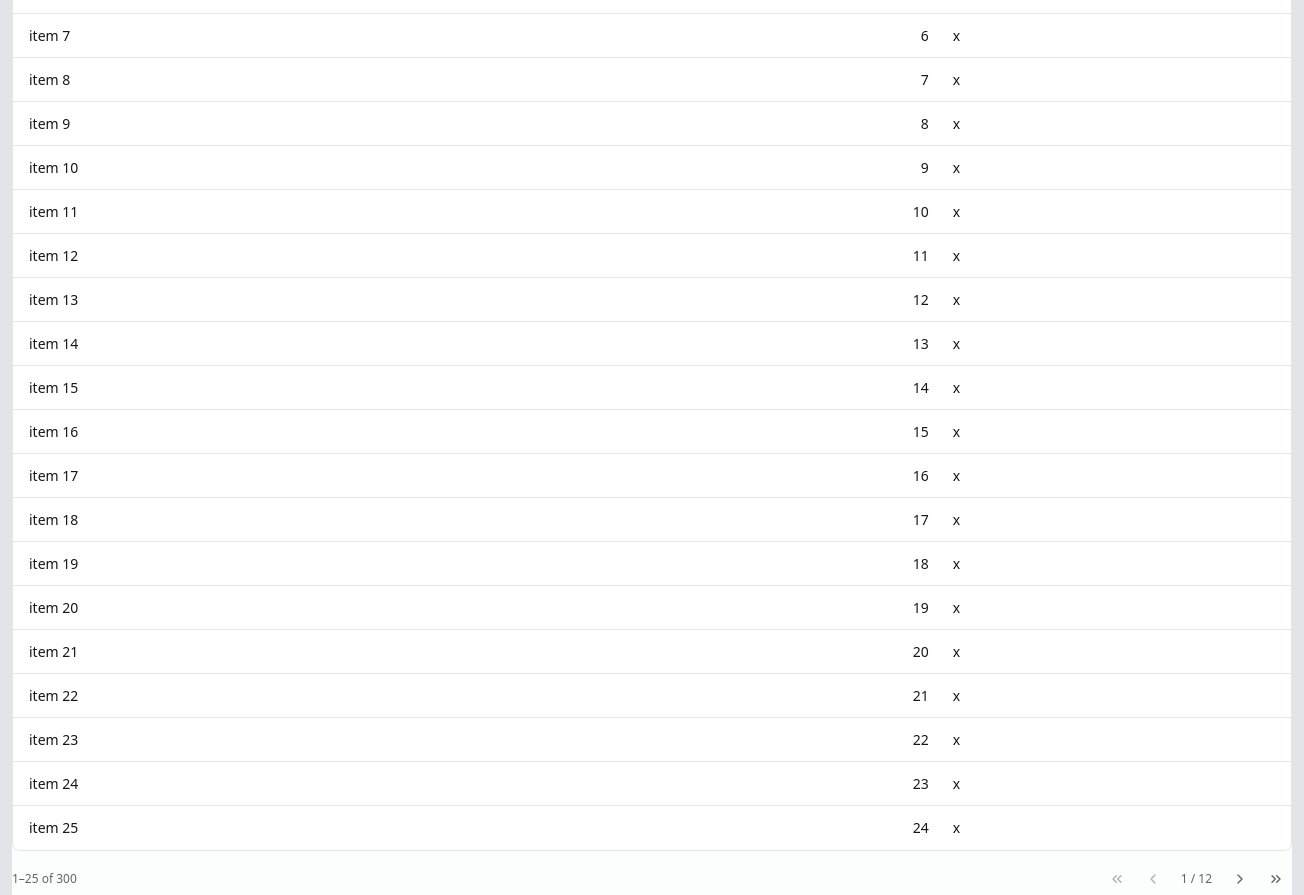
Scenario: DataTable › paginates large datasets
(page scrolled)
Expected: the text "1–25 of 300" is shown, [12,870,77,886]
Click the button named "Next page" at (1240, 878), box [1224,862,1256,894]
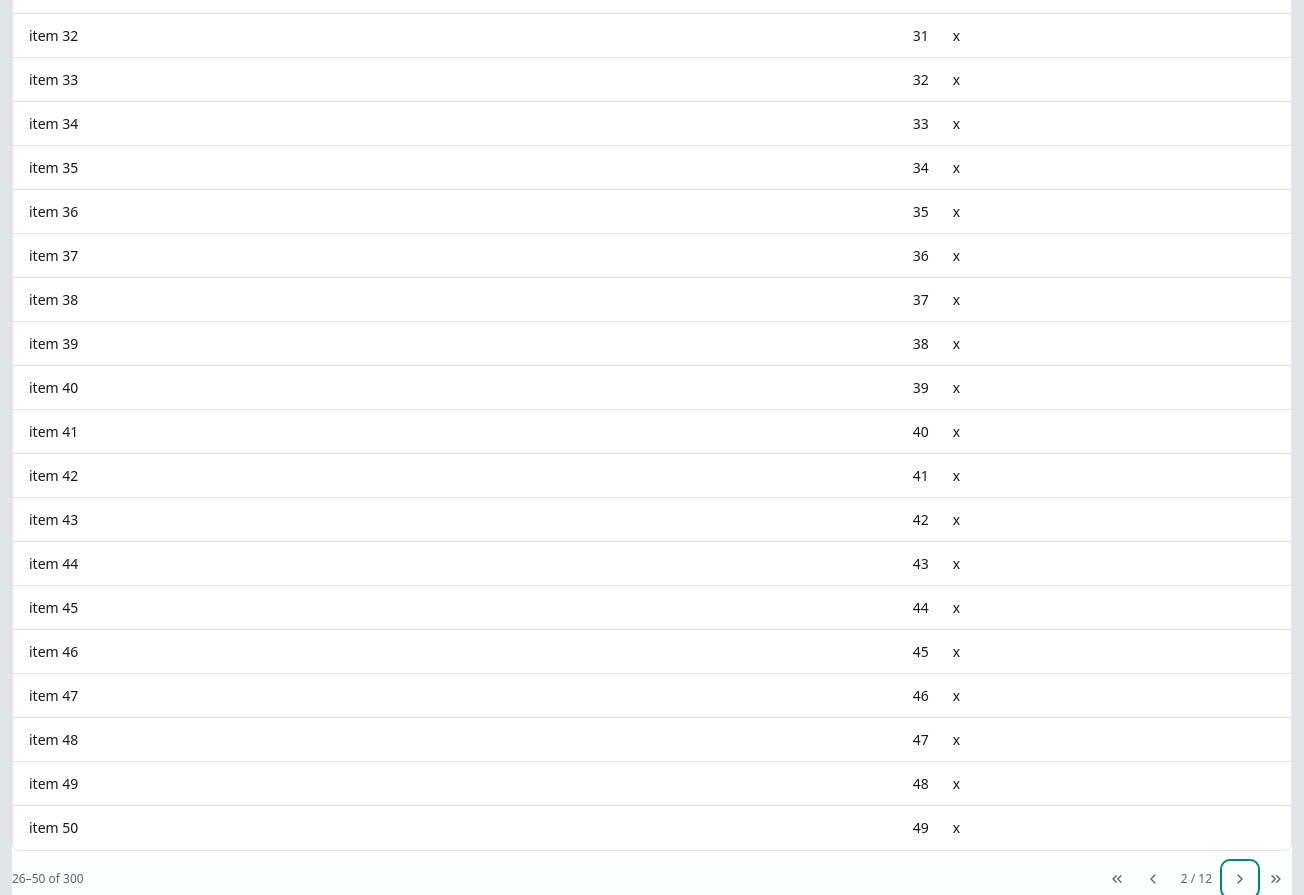
Click the button named "Last page" at (1276, 878), box [1260,862,1292,894]
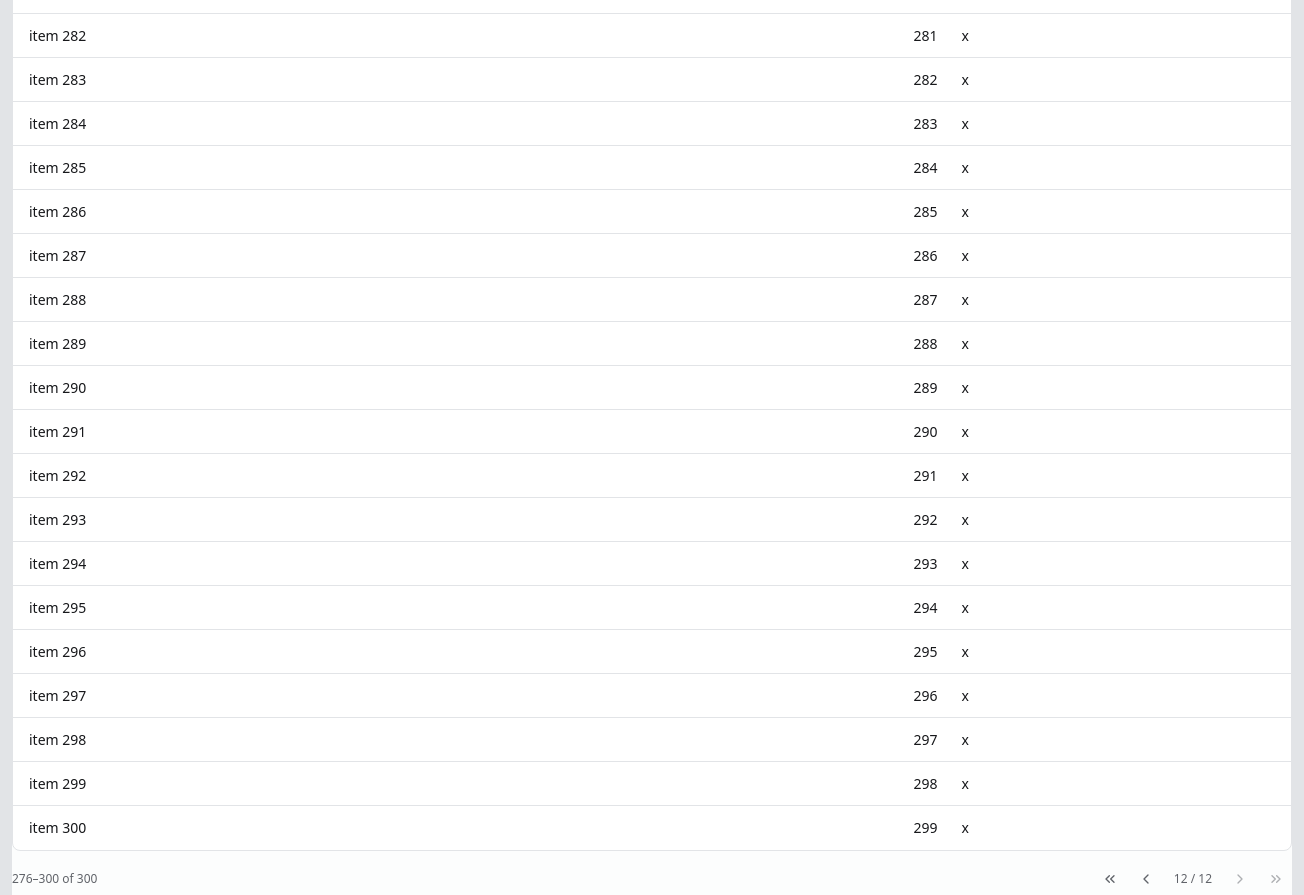
Result: the text "276–300 of 300" is shown at [12,870,97,886]
